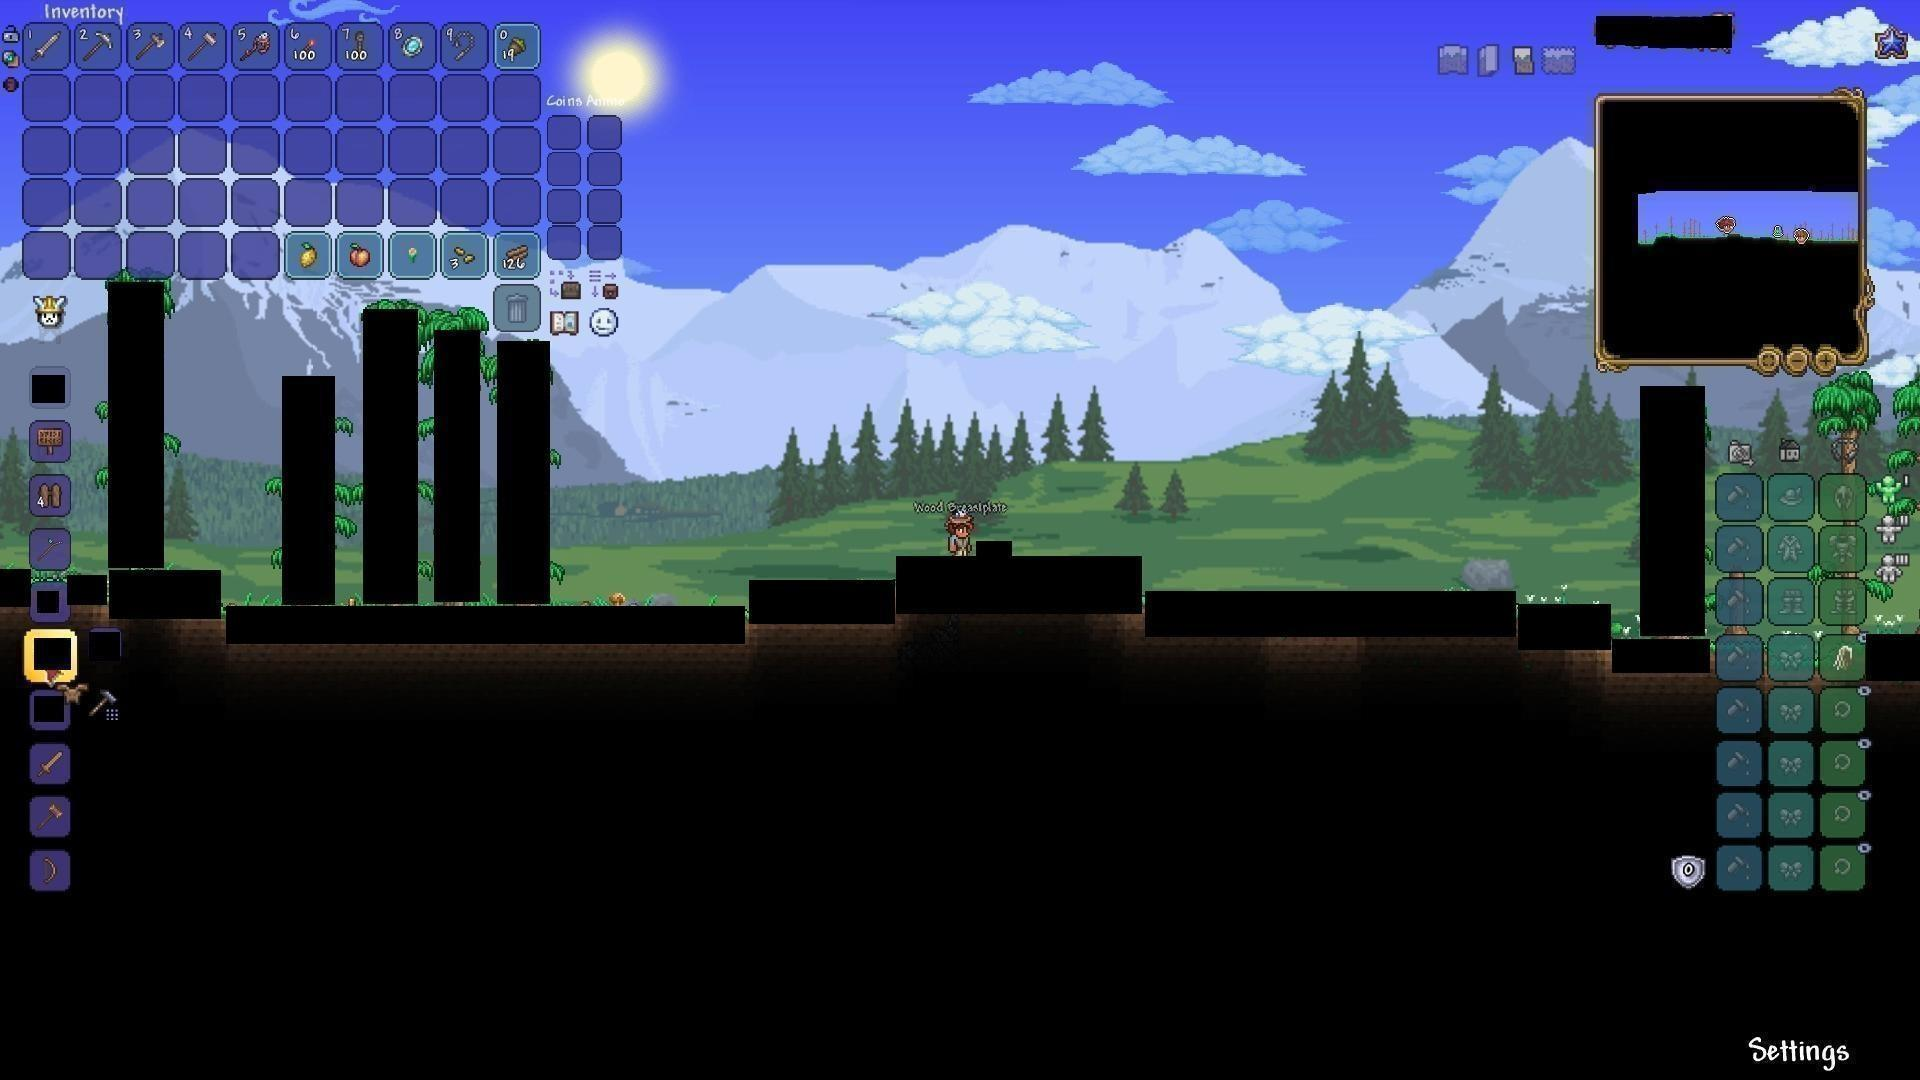breastplate: (59, 680, 88, 702)
wood: (505, 241, 535, 269)
